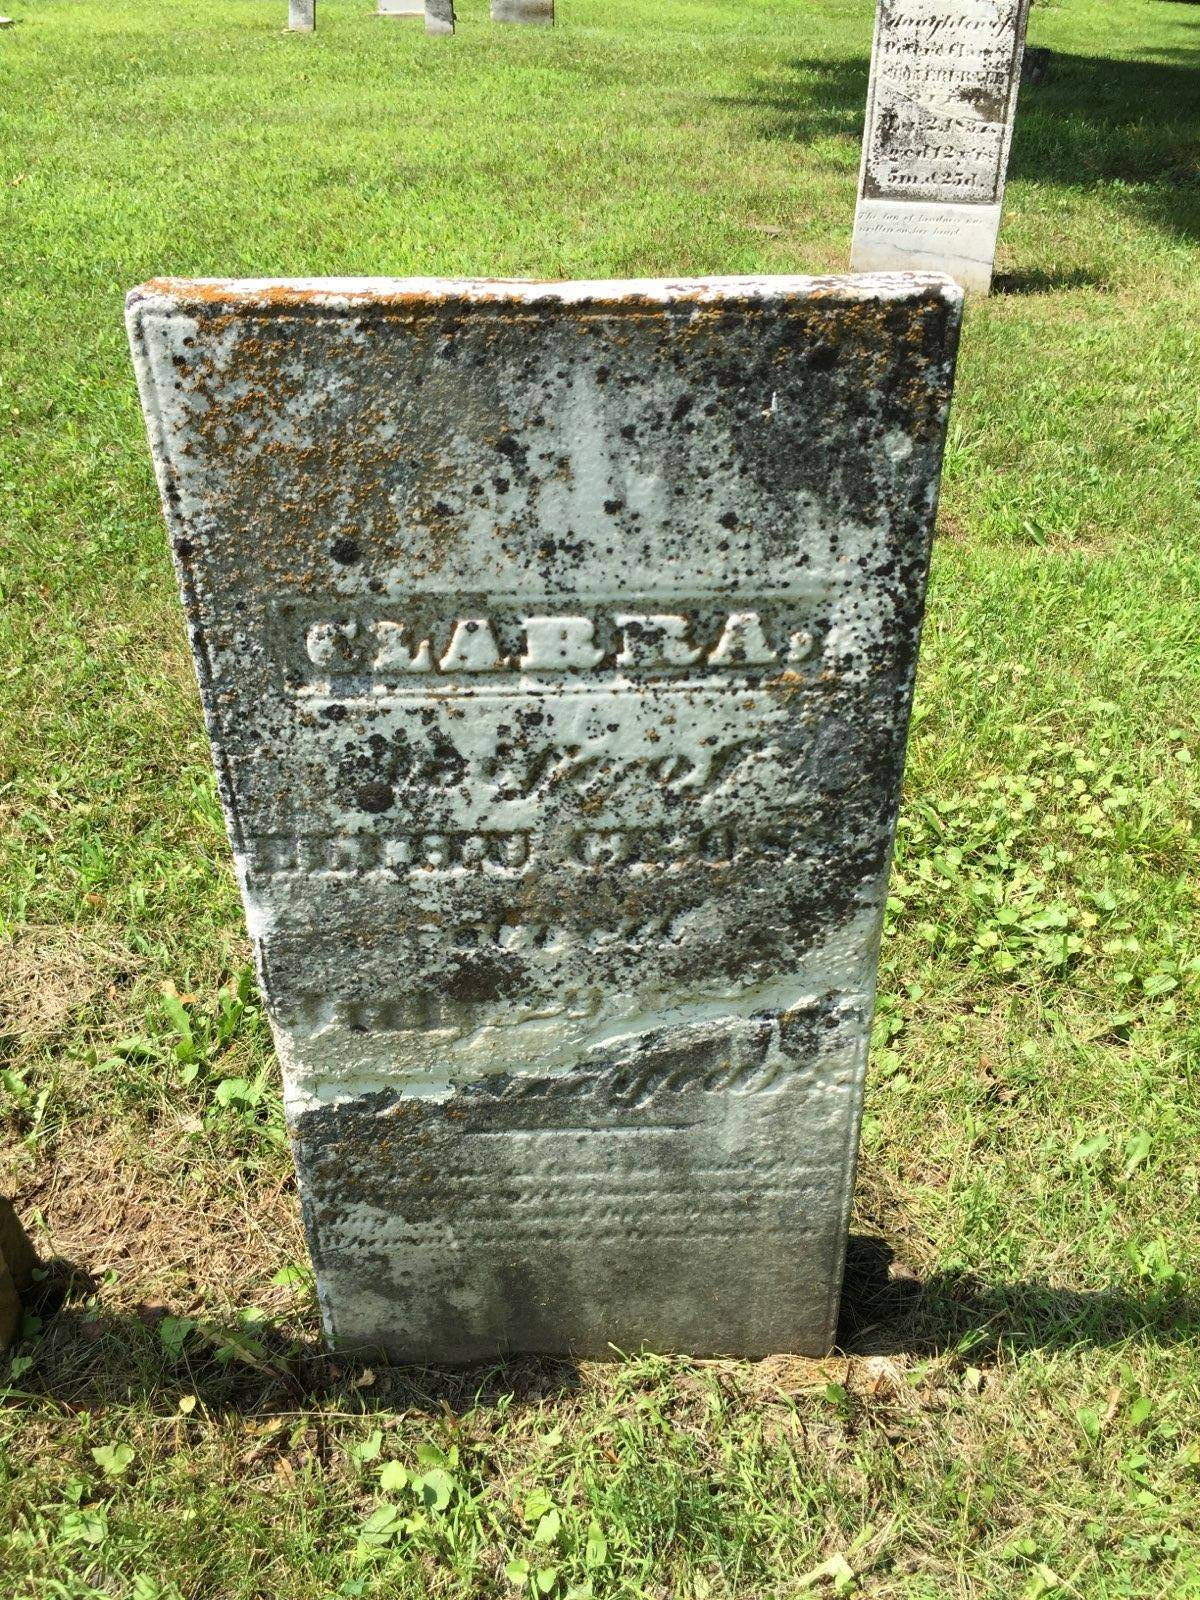upright: (117, 270, 969, 1362)
